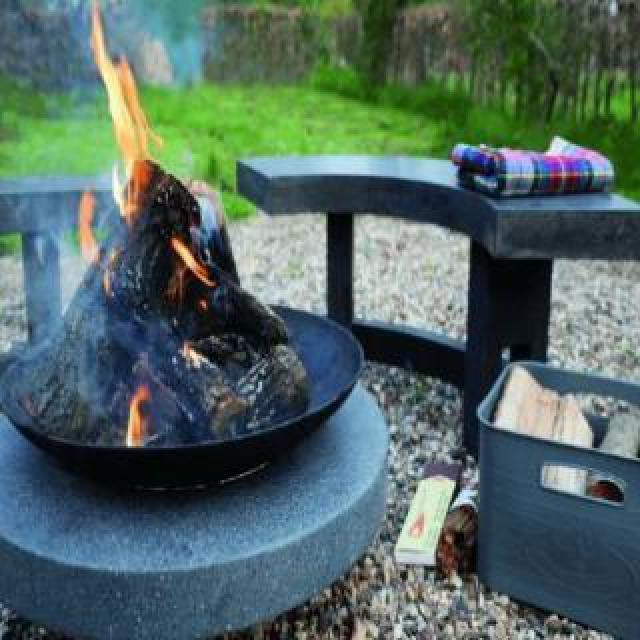Fire: (92, 34, 154, 208), (116, 364, 158, 462)
Smoke: (8, 198, 120, 432)
